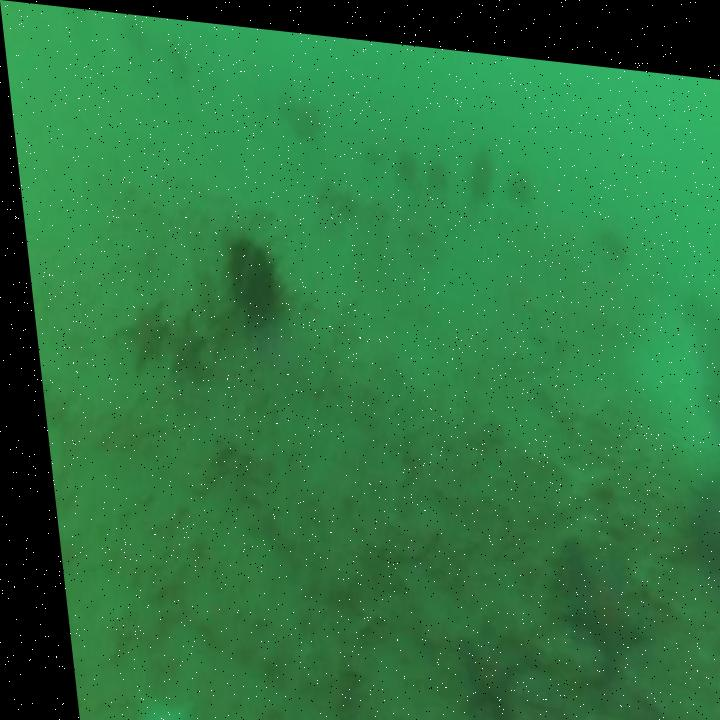echinus: (220, 235, 272, 312), (465, 141, 489, 193), (290, 96, 323, 132), (505, 161, 530, 198), (391, 140, 413, 176), (424, 148, 442, 189)
starfish: (543, 531, 636, 661), (447, 609, 504, 709), (682, 466, 720, 568), (115, 303, 160, 368), (159, 311, 196, 375)
